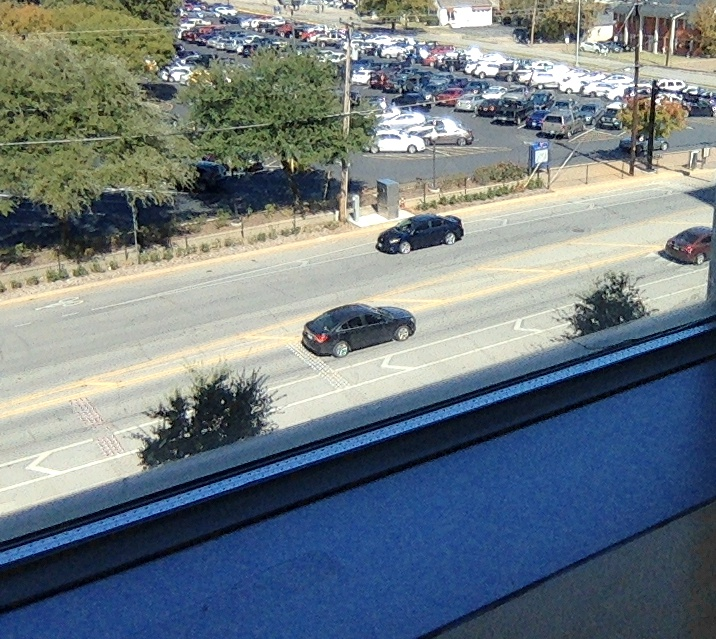car: (300, 300, 416, 360)
